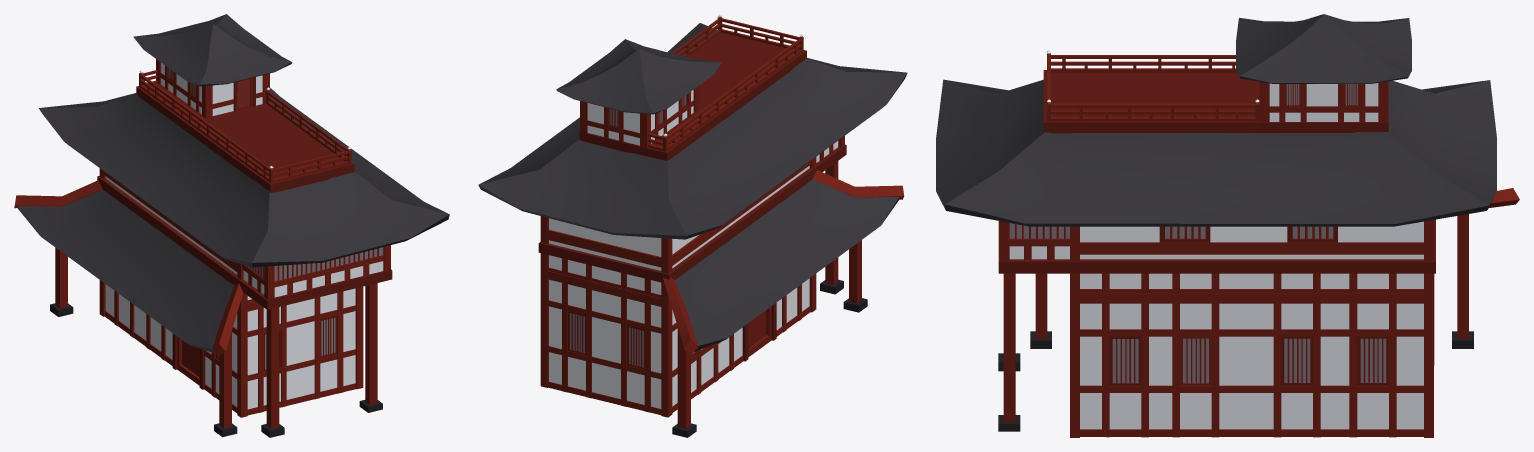
The model's file is houme018.fbx.
3 renders of one model, left to right at view 1: azimuth 30°, elevation 25°; view 2: azimuth 150°, elevation 25°; view 3: azimuth 270°, elevation 25°, orthographic. The views are drawn at different scales.
Parts seen in each view (by area): view 1: houme_18, fence_18_1; view 2: houme_18, fence_18_1; view 3: houme_18, fence_18_1.
Boxes of the visible parts, x1,y1,x2,y2 form: houme_18: [14, 14, 449, 437]; fence_18_1: [139, 70, 351, 183]; houme_18: [478, 23, 907, 437]; fence_18_1: [647, 14, 803, 151]; houme_18: [936, 14, 1519, 437]; fence_18_1: [1047, 50, 1259, 121].
Bounding box in the file's own units: 1268 × 1646 × 2223.
